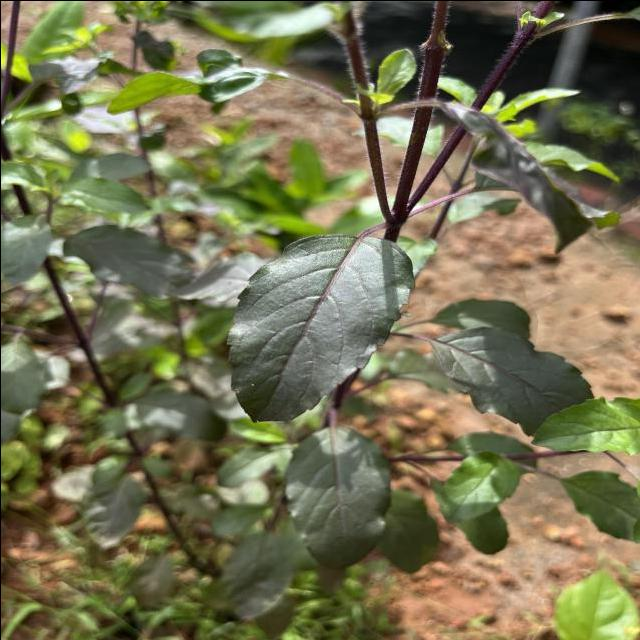Ocimum tenuiflorum: (223, 231, 416, 424)
